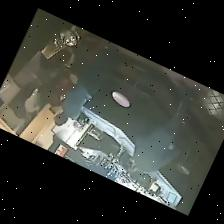person: (129, 87, 193, 178), (54, 42, 119, 124), (21, 64, 64, 117)
